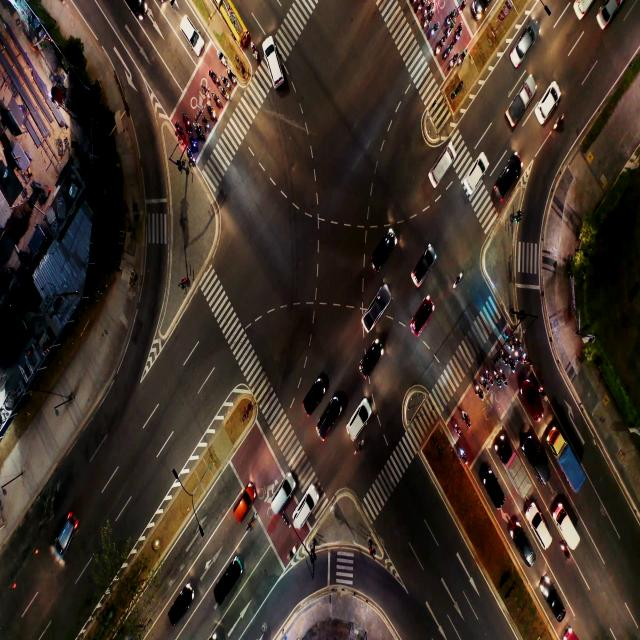bus: (227, 8, 240, 35)
car: (168, 587, 196, 625), (52, 518, 78, 558), (295, 487, 317, 530), (495, 164, 520, 201), (434, 146, 456, 183), (217, 561, 237, 601), (318, 404, 338, 444), (264, 52, 284, 87), (235, 483, 250, 524), (367, 294, 385, 326), (359, 347, 375, 380), (272, 482, 288, 514), (302, 390, 320, 418), (412, 306, 431, 332), (346, 407, 360, 441), (374, 241, 389, 272), (182, 23, 200, 47), (483, 480, 498, 508), (532, 446, 546, 476), (530, 512, 546, 537), (418, 250, 430, 283), (515, 38, 529, 62), (540, 96, 553, 121), (528, 390, 539, 418), (468, 162, 478, 191), (549, 588, 561, 610), (513, 540, 525, 556)
motorcycle: (552, 114, 564, 131), (246, 513, 257, 531), (475, 382, 483, 402), (454, 271, 463, 288), (287, 545, 297, 560), (425, 0, 434, 16), (447, 9, 456, 24), (435, 40, 443, 56), (251, 42, 258, 60), (486, 368, 493, 386), (430, 24, 439, 38), (482, 376, 490, 391), (514, 334, 521, 350), (423, 16, 431, 30), (355, 440, 362, 455), (217, 50, 225, 63), (455, 27, 462, 41), (447, 24, 454, 38), (458, 2, 466, 14), (209, 72, 218, 82), (510, 356, 515, 374), (540, 387, 546, 401), (494, 371, 500, 385), (450, 56, 456, 70), (444, 46, 451, 58), (220, 88, 228, 98), (196, 125, 202, 138), (463, 412, 469, 425), (500, 369, 506, 382), (176, 125, 183, 136), (185, 116, 191, 128), (208, 108, 216, 117), (228, 69, 234, 81), (524, 352, 530, 364), (458, 53, 464, 65), (190, 138, 197, 148), (221, 78, 228, 88), (461, 448, 466, 462), (508, 338, 513, 352), (202, 84, 207, 97), (215, 94, 220, 106), (454, 424, 460, 434), (502, 350, 506, 365), (416, 2, 421, 14), (187, 152, 192, 163), (203, 118, 208, 129), (516, 352, 521, 363)
truck: (506, 91, 528, 128), (506, 450, 522, 485), (560, 449, 573, 474), (558, 517, 570, 537)
